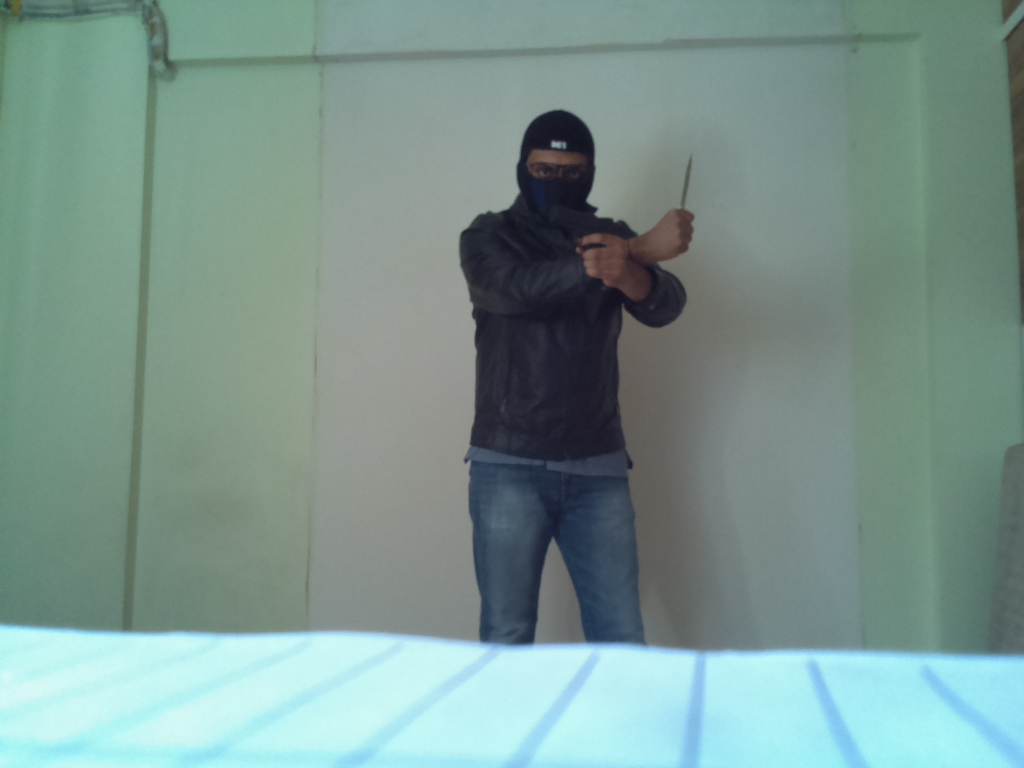knife: (670, 143, 698, 228)
